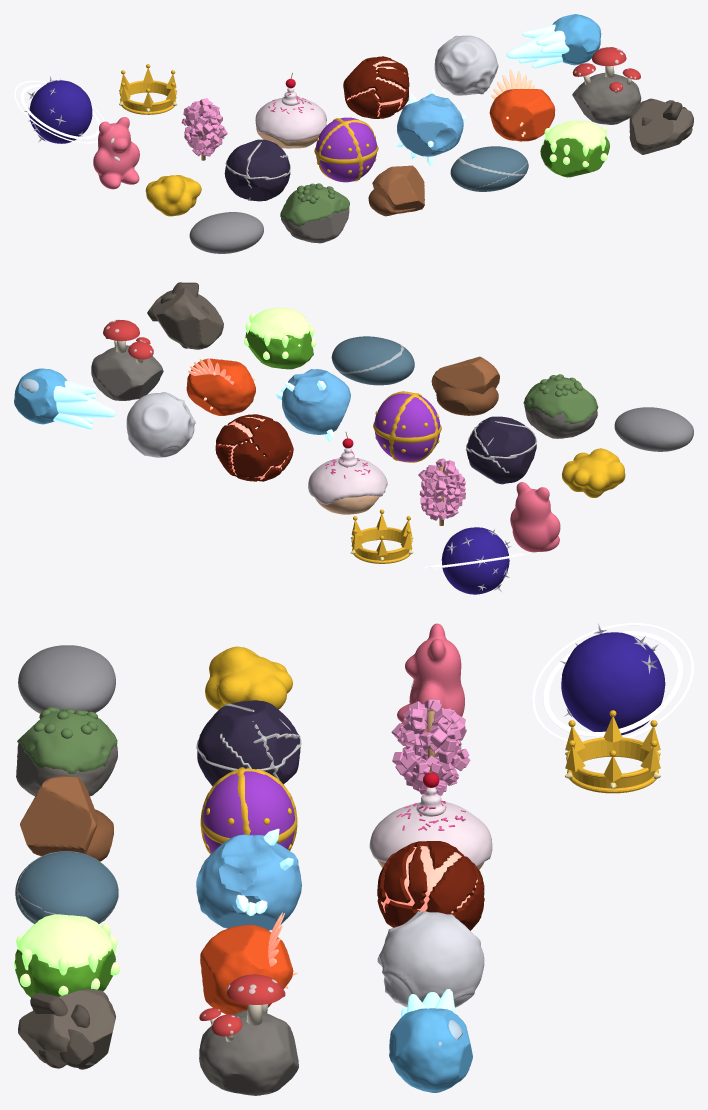
Rendered from Rocks.fbx.
3 renders of one model, top to bottom at view 1: azimuth 30°, elevation 25°; view 2: azimuth 150°, elevation 25°; view 3: azimuth 270°, elevation 25°, orthographic. The views are drawn at different scales.
Parts seen in each view (by area): view 1: RockMeteor_Body, RockLava_Crust, RockMoon_Body, RockRune_Body, RockGalaxy_Body, RockPhoenix_Body, RockRiver_Body, RockFrosted_Frosting, RockRoyal_Body, RockBoulder_Body, RockGummy_Jelly, RockPebble_Body (+19 smaller); view 2: RockLava_Crust, RockMoon_Body, RockGalaxy_Body, RockMeteor_Body, RockRune_Body, RockRiver_Body, RockRoyal_Body, RockBoulder_Body, RockFrosted_Frosting, RockPhoenix_Body, RockPebble_Body, RockMushroom_Stone (+17 smaller); view 3: RockGalaxy_Body, RockMoon_Body, RockMeteor_Body, RockLava_Crust, RockMushroom_Stone, RockRune_Body, RockRiver_Body, RockComet_Body, RockPebble_Body, RockCandy_Crystal, RockFrosted_Frosting, RockPhoenix_Body (+19 smaller).
Boxes of the visible parts, x1=… form: RockMeteor_Body: x1=397, y1=93, x2=463, y2=156; RockLava_Crust: x1=343, y1=56, x2=409, y2=118; RockMoon_Body: x1=434, y1=35, x2=498, y2=95; RockRune_Body: x1=224, y1=139, x2=290, y2=201; RockGalaxy_Body: x1=29, y1=80, x2=92, y2=143; RockPhoenix_Body: x1=489, y1=88, x2=555, y2=141; RockRiver_Body: x1=450, y1=146, x2=528, y2=191; RockFrosted_Frosting: x1=255, y1=88, x2=326, y2=141; RockRoyal_Body: x1=316, y1=117, x2=376, y2=182; RockBoulder_Body: x1=629, y1=98, x2=693, y2=154; RockGummy_Jelly: x1=93, y1=117, x2=139, y2=189; RockPebble_Body: x1=189, y1=212, x2=263, y2=253; RockLava_Crust: x1=215, y1=414, x2=293, y2=481; RockMoon_Body: x1=126, y1=392, x2=195, y2=457; RockGalaxy_Body: x1=441, y1=527, x2=509, y2=594; RockMeteor_Body: x1=281, y1=369, x2=350, y2=434; RockRune_Body: x1=466, y1=416, x2=536, y2=483; RockRiver_Body: x1=331, y1=336, x2=414, y2=385; RockRoyal_Body: x1=374, y1=393, x2=440, y2=461; RockBoulder_Body: x1=151, y1=287, x2=223, y2=349; RockFrosted_Frosting: x1=308, y1=448, x2=387, y2=504; RockPhoenix_Body: x1=186, y1=358, x2=255, y2=415; RockPebble_Body: x1=614, y1=407, x2=693, y2=451; RockMushroom_Stone: x1=91, y1=345, x2=163, y2=400; RockGalaxy_Body: x1=561, y1=632, x2=665, y2=735; RockMoon_Body: x1=377, y1=911, x2=484, y2=1007; RockMeteor_Body: x1=196, y1=834, x2=301, y2=930; RockLava_Crust: x1=377, y1=841, x2=484, y2=930; RockMushroom_Stone: x1=199, y1=1010, x2=298, y2=1095; RockRune_Body: x1=197, y1=700, x2=300, y2=786; RockRiver_Body: x1=15, y1=851, x2=118, y2=923; RockComet_Body: x1=389, y1=1008, x2=472, y2=1092; RockPebble_Body: x1=18, y1=645, x2=115, y2=713; RockCandy_Crystal: x1=391, y1=699, x2=470, y2=795; RockFrosted_Frosting: x1=369, y1=787, x2=492, y2=866; RockPhoenix_Body: x1=200, y1=925, x2=293, y2=1014.
Bounding box in the file's own units: 1921 × 252 × 1315.
